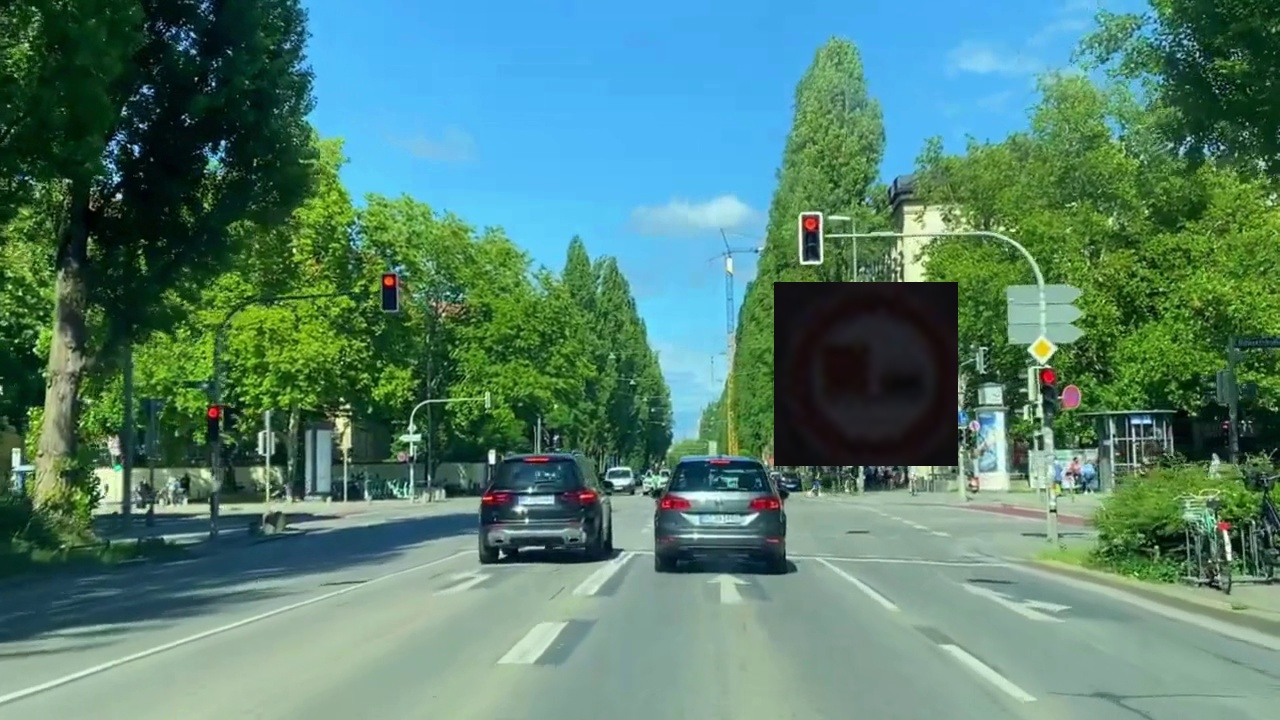No pass >3.5t: (774, 282, 958, 466)
